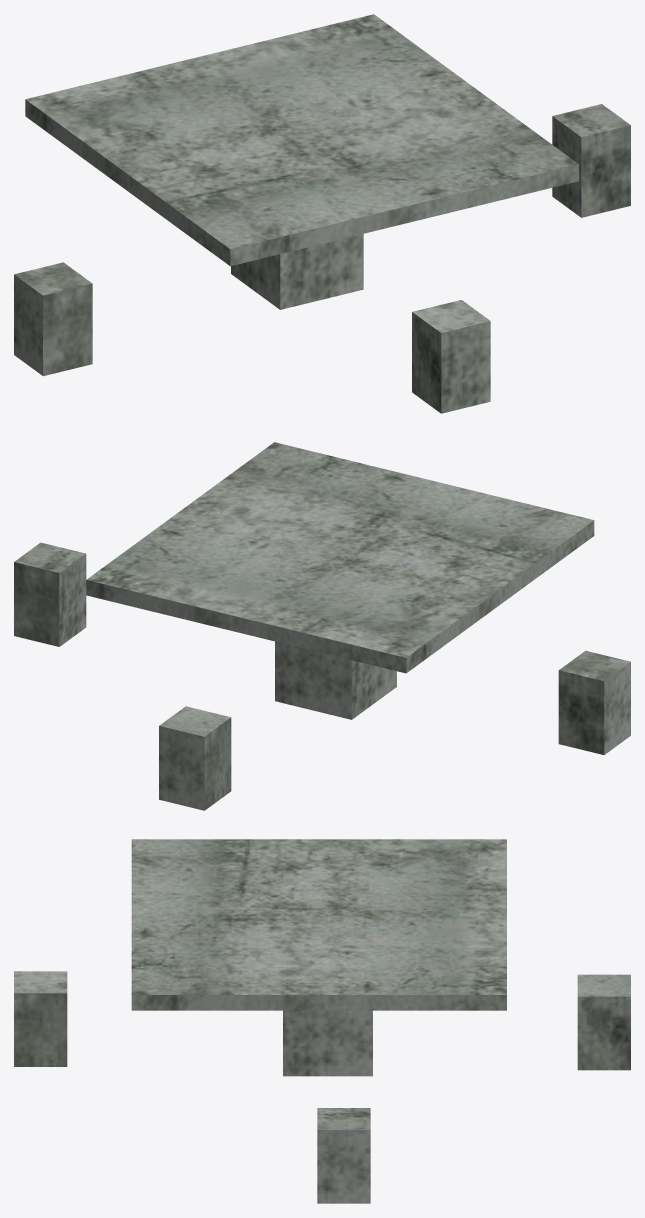
The model's file is gx15_well.glb.
The picture shows the model from 3 angles, top to bottom: view 1: azimuth 30°, elevation 25°; view 2: azimuth 150°, elevation 25°; view 3: azimuth 270°, elevation 25°; orthographic projection. The views are drawn at different scales.
Visible parts, largest first — view 1: gx15_well; view 2: gx15_well; view 3: gx15_well.
Boxes of the visible parts, <box> form: gx15_well: <box>14,14,630,413</box>; gx15_well: <box>14,442,630,810</box>; gx15_well: <box>14,839,630,1203</box>.
Bounding box in the file's own units: 1.64 × 0.3929 × 1.56.
1 material, 1 textured.
